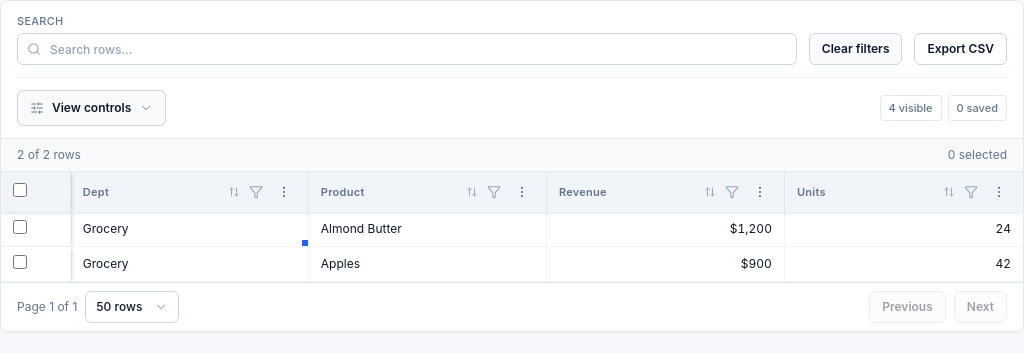
DataGrid selected-row scope › counts only filtered rows in the selected count
This screenshot has width=1024, height=353.
Click the checkbox named "Select Apples".
click(20, 262)  # box [13,255,27,269]
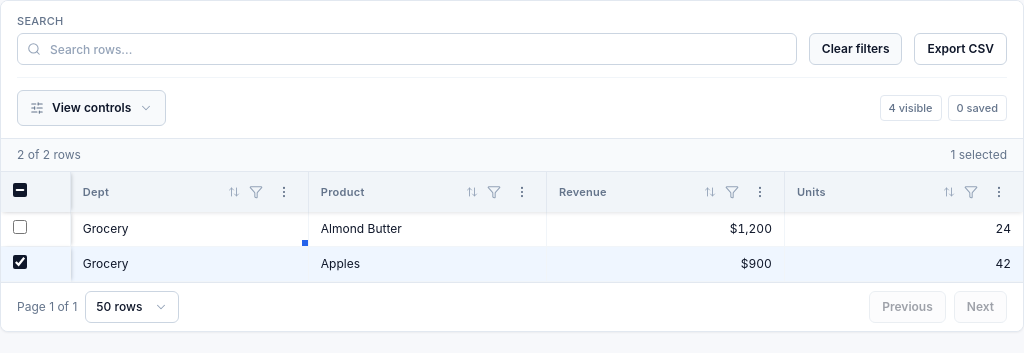
Result: the text "1 selected" is shown at [950,147,1007,163]
Type "Almond" into the field with placeholder "Search rows...".
click(407, 49); type("Almond")  # box [17,33,797,65]
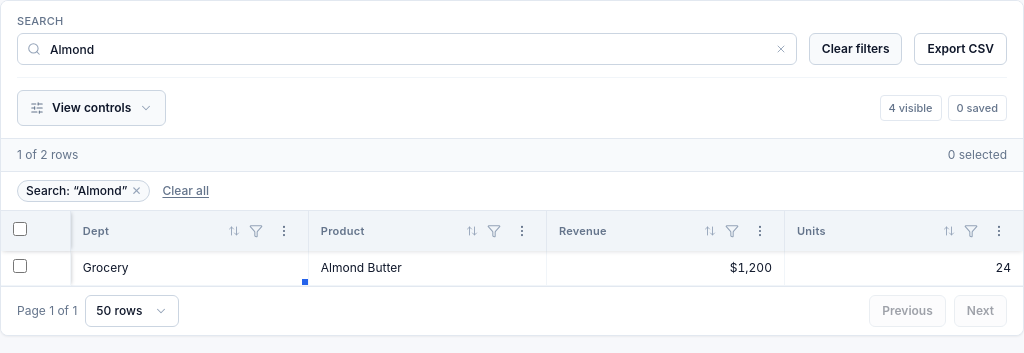
Result: the text "0 selected" is shown at [948,147,1007,163]
